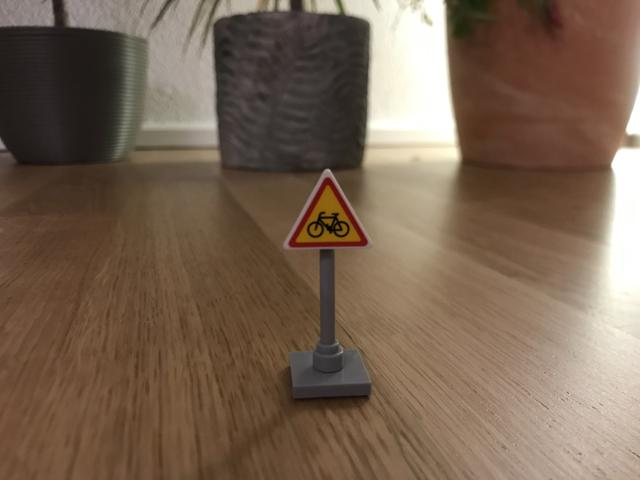radfahrer: (287, 169, 375, 251)
